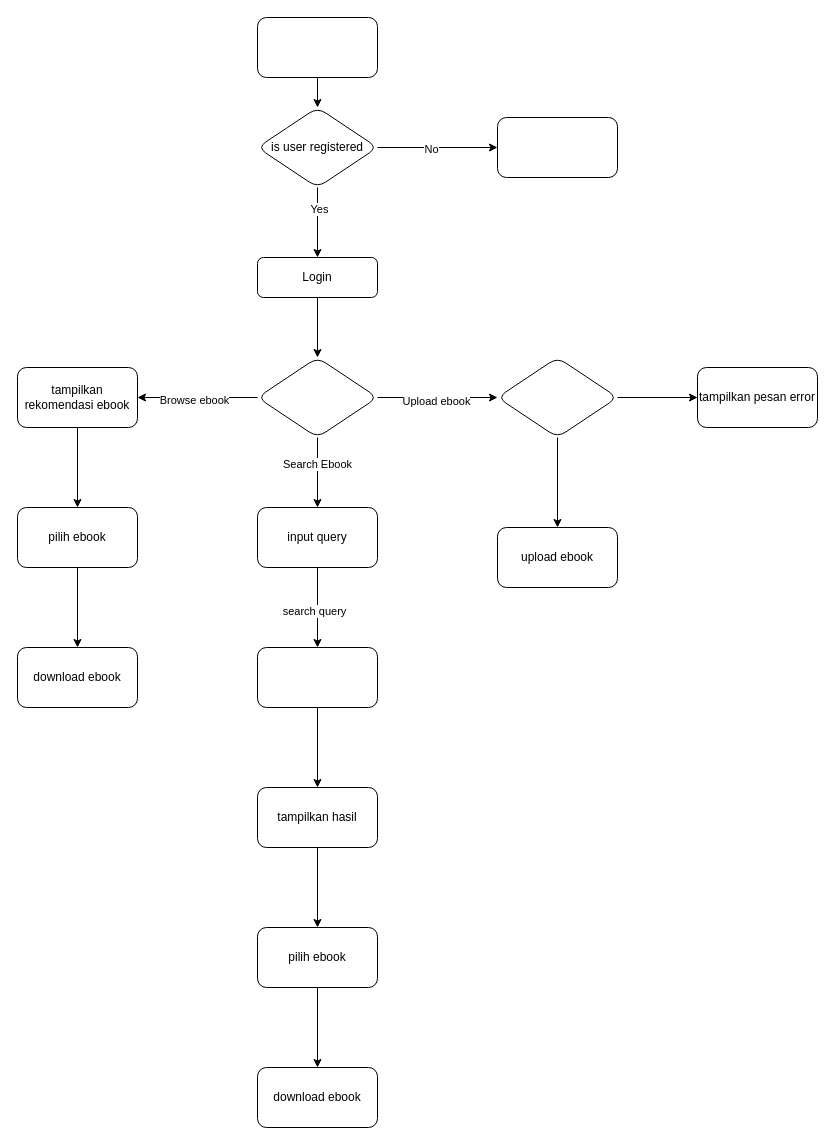
Some shapes in this 835 by 1145 pixel diagram are drawn without their labels. Here are the shapes that lost their labels. From the top down, the centre of each, then its label:
At [317,47]: "start".
At [557,147]: "register".
At [317,397]: "choose an option".
At [557,397]: "validasi ebook".
At [317,677]: "search database".
